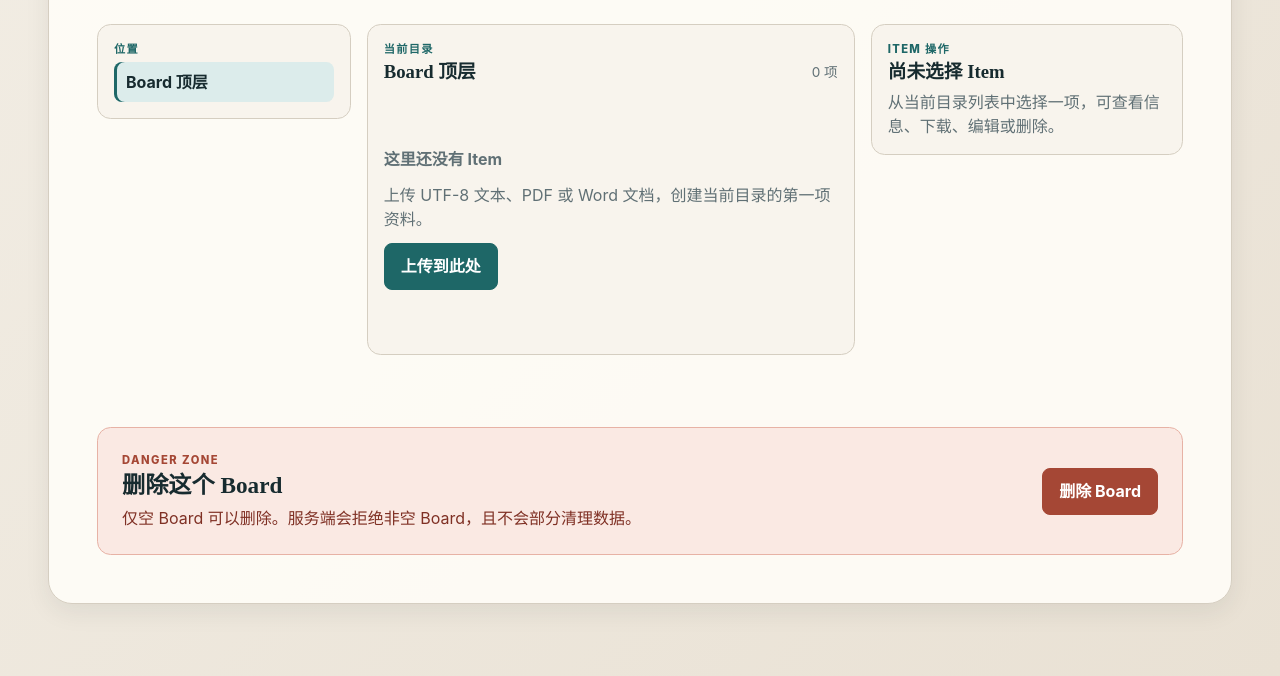
BoardDetailsPage › keeps the board when the backend rejects deleting a non-empty board
The image size is (1280, 676).
(page scrolled)
What coordinates should you click on to do the following:
click the button "删除 Board"
I would click on:
 (1100, 491)
Its box is [1042,468,1158,515].
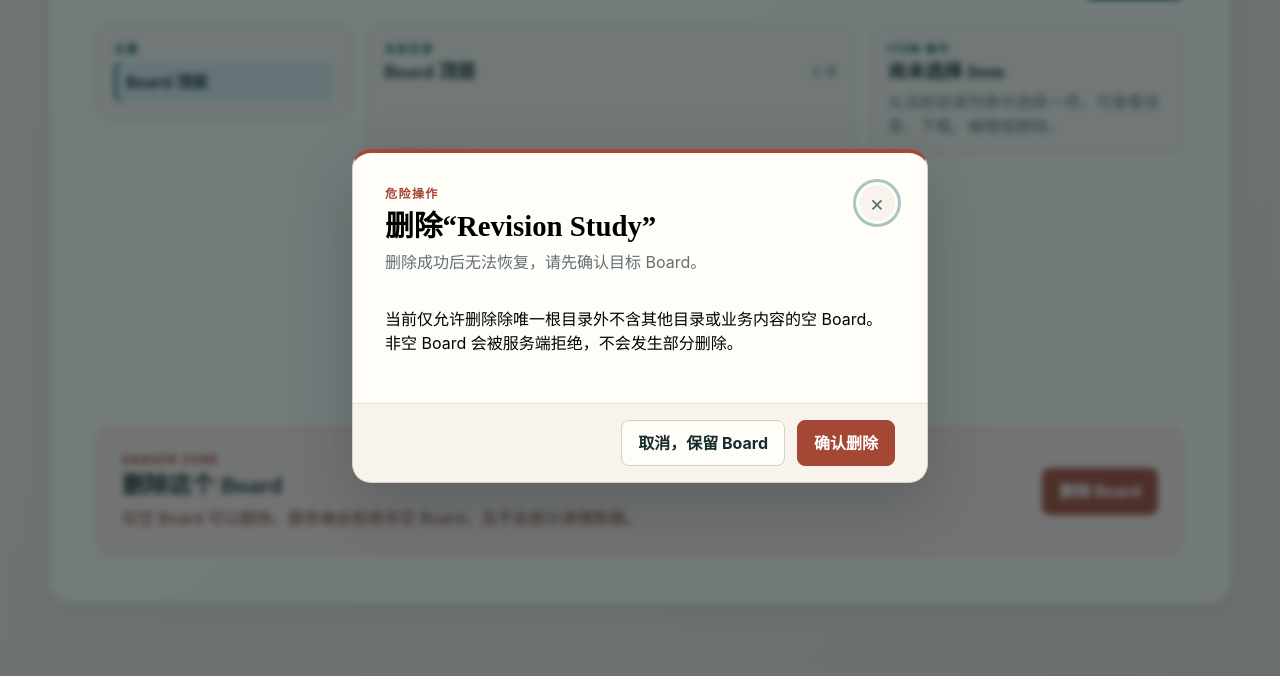
What coordinates should you click on to do the following:
click the button "确认删除"
I would click on:
 (846, 443)
Its box is [797,420,895,466].
(page scrolled)
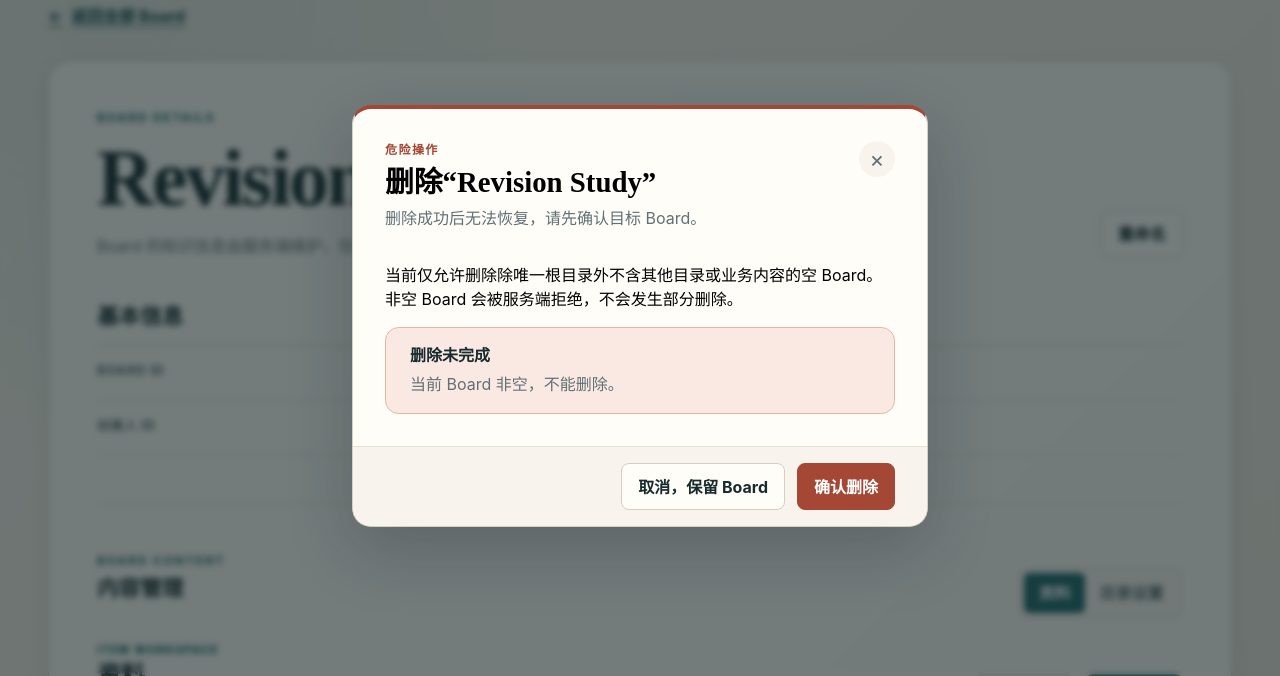
Expected: the heading "Revision Study" is shown, [97,135,571,222]
Now the text "当前 Board 非空，不能删除。" is shown, box [410,372,624,397]
